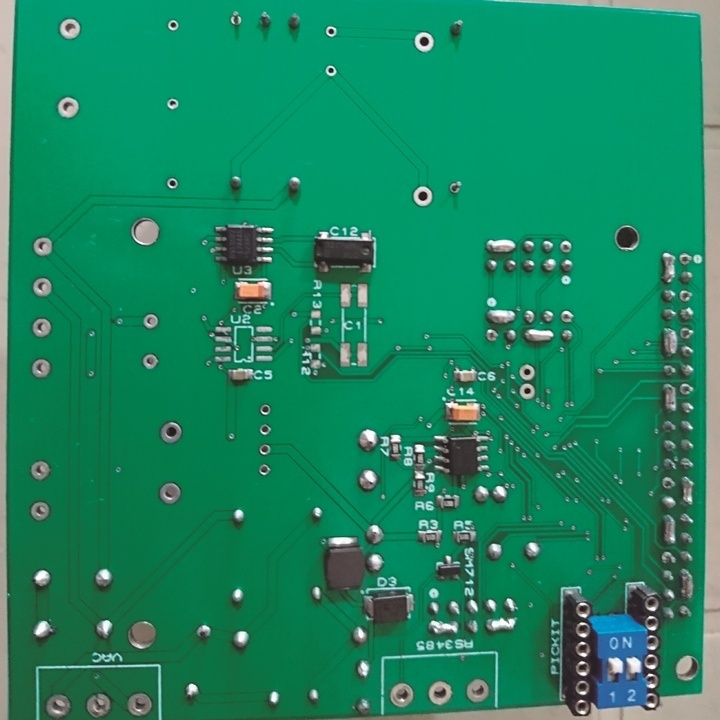F: (124, 689, 153, 718), (428, 679, 453, 709), (55, 96, 81, 123), (157, 479, 184, 505), (42, 692, 70, 717), (464, 678, 490, 704), (389, 683, 414, 710), (56, 18, 84, 41), (159, 418, 182, 446), (85, 693, 112, 715), (413, 183, 434, 210), (30, 275, 54, 298), (30, 316, 53, 340), (30, 356, 52, 381), (30, 235, 53, 258), (413, 30, 436, 53), (29, 460, 53, 481), (29, 498, 49, 522), (141, 312, 159, 332), (140, 352, 159, 370), (660, 549, 676, 570), (678, 380, 696, 398), (518, 383, 536, 400), (661, 474, 678, 492), (520, 363, 535, 383), (230, 8, 242, 31), (679, 288, 695, 305), (165, 175, 180, 192), (324, 61, 338, 79), (680, 324, 695, 340), (166, 95, 180, 112), (449, 178, 462, 196), (559, 238, 574, 253), (559, 310, 574, 325), (258, 402, 273, 417), (484, 326, 498, 342), (679, 252, 693, 267), (324, 24, 338, 38), (259, 421, 271, 437), (167, 18, 179, 32), (259, 441, 271, 455), (259, 463, 270, 478)
P: (485, 616, 518, 634), (427, 620, 460, 637), (662, 379, 678, 414), (659, 252, 677, 283), (660, 326, 678, 357), (484, 238, 516, 255), (663, 512, 678, 547), (680, 566, 695, 601), (680, 475, 695, 507), (523, 328, 554, 343), (486, 308, 516, 323)
